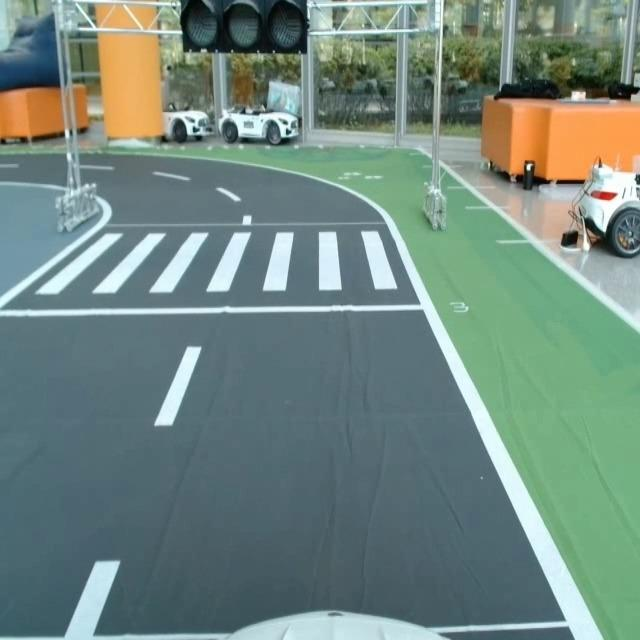traffic-light: (176, 0, 312, 58)
